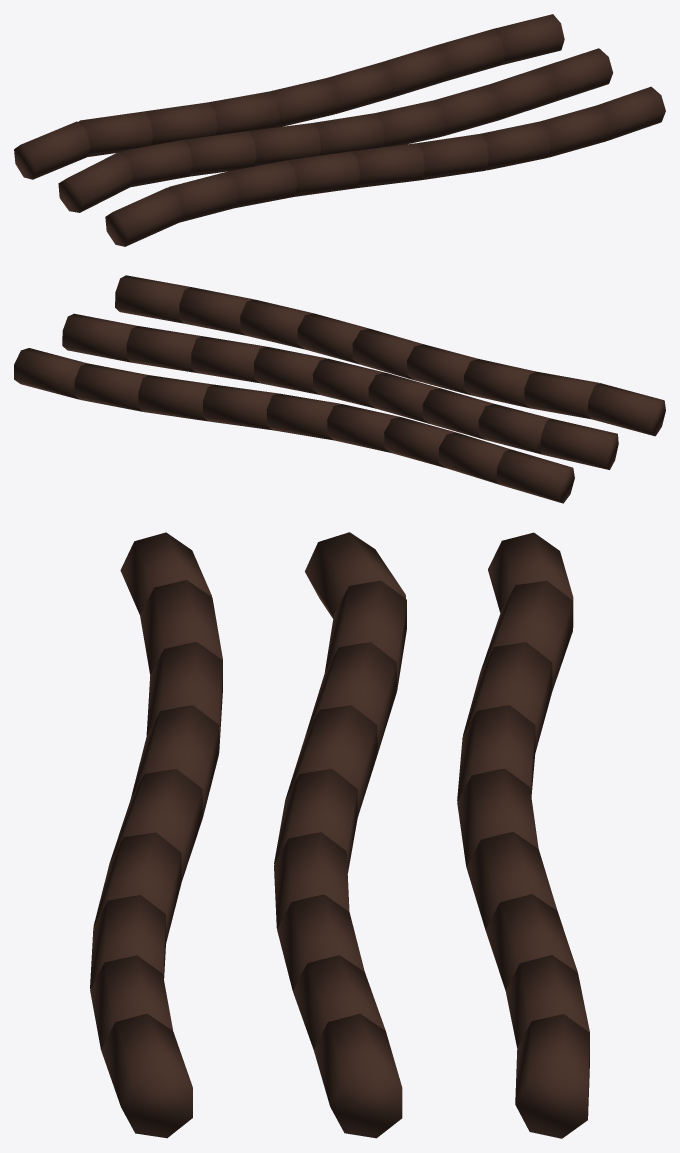
File: Vanilla.glb
The picture shows the model from 3 angles, top to bottom: view 1: azimuth 30°, elevation 25°; view 2: azimuth 150°, elevation 25°; view 3: azimuth 270°, elevation 25°; orthographic projection. The views are drawn at different scales.
Visible parts, largest first — view 1: Vanilla; view 2: Vanilla; view 3: Vanilla.
Part boxes in pixels (bbox=[...]): Vanilla: bbox=[14, 14, 665, 246]; Vanilla: bbox=[14, 275, 665, 503]; Vanilla: bbox=[90, 532, 589, 1138].
Size of what is drawn, in the model's own units: 0.0819 by 0.00679 by 0.0327.
